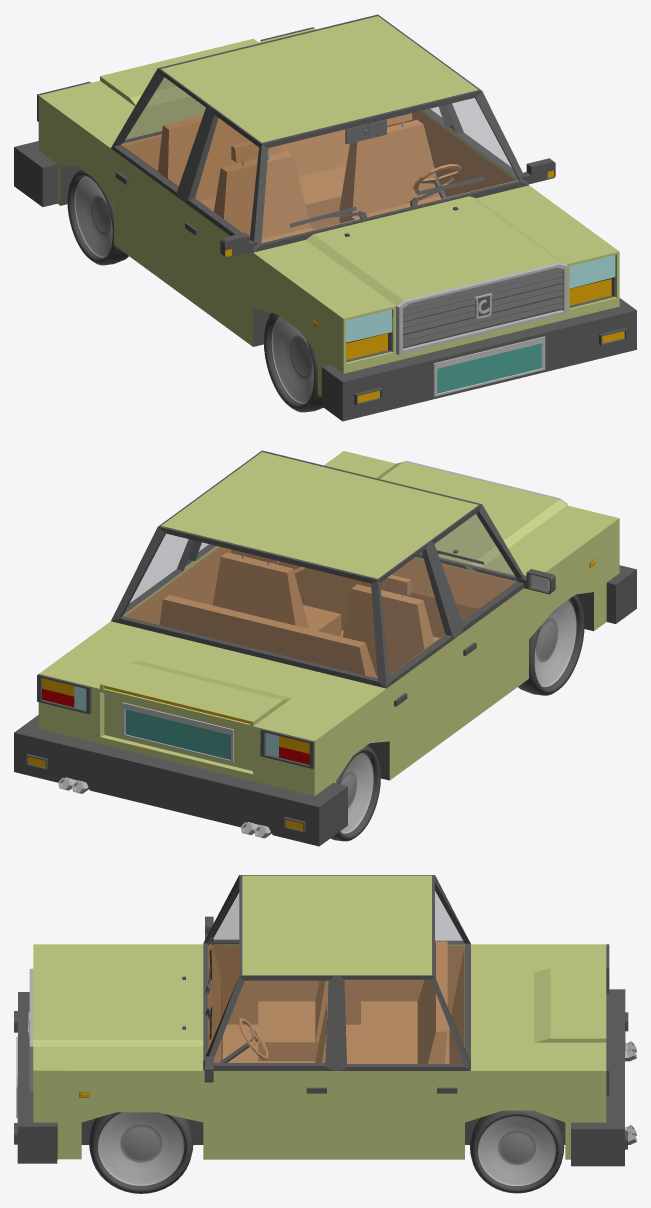
The model's file is f1d6a7_pf_CartoonGreenCar.fbx.
3 views of the same model, one above another, from view 1: azimuth 30°, elevation 25°; view 2: azimuth 150°, elevation 25°; view 3: azimuth 270°, elevation 25° (orthographic). The views are drawn at different scales.
Parts seen in each view (by area): view 1: CarBody, WheelFrontRight, WheelBackRight; view 2: CarBody, WheelFrontRight, WheelBackRight; view 3: CarBody, WheelFrontLeft, WheelBackLeft.
Boxes of the visible parts, bbox=[...] form: CarBody: bbox=[14, 14, 636, 421]; WheelFrontRight: bbox=[263, 313, 323, 412]; WheelBackRight: bbox=[67, 169, 128, 265]; CarBody: bbox=[14, 450, 636, 846]; WheelFrontRight: bbox=[518, 594, 584, 695]; WheelBackRight: bbox=[330, 746, 380, 841]; CarBody: bbox=[14, 875, 636, 1166]; WheelFrontLeft: bbox=[89, 1112, 193, 1193]; WheelBackLeft: bbox=[470, 1110, 564, 1193].
Bounding box in the file's own units: 36.73 × 23.53 × 63.77.
